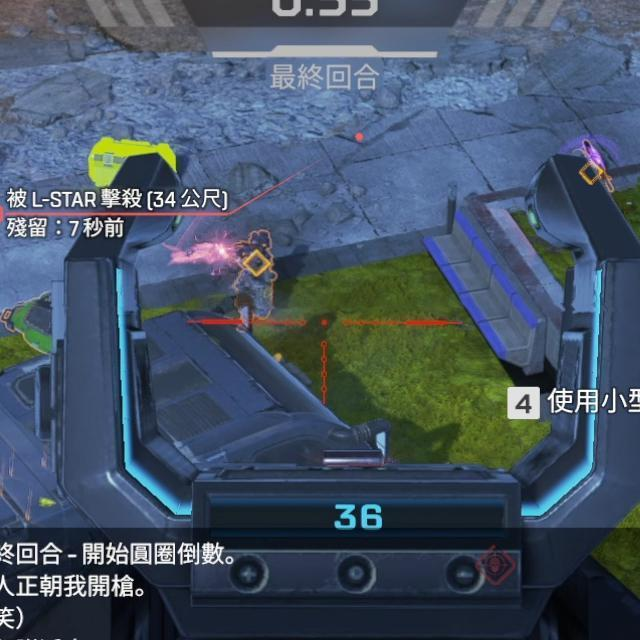avatar: (233, 227, 275, 324)
object: (241, 248, 272, 279), (577, 158, 604, 187)
